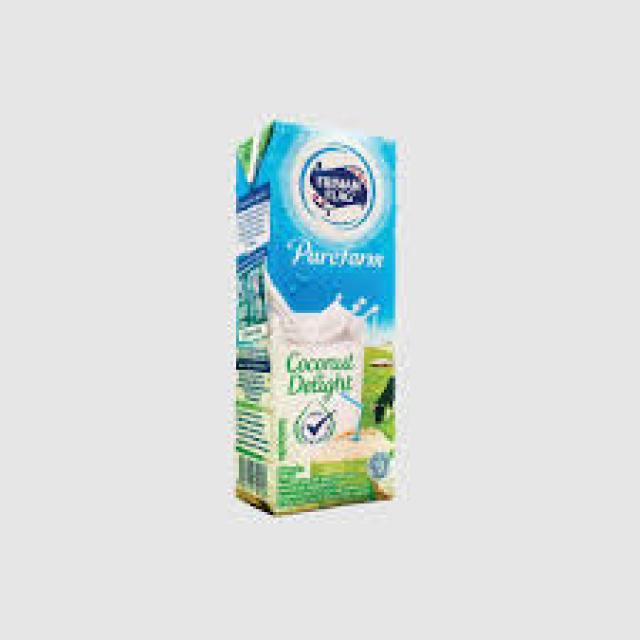susu_kotak: (214, 119, 424, 517)
